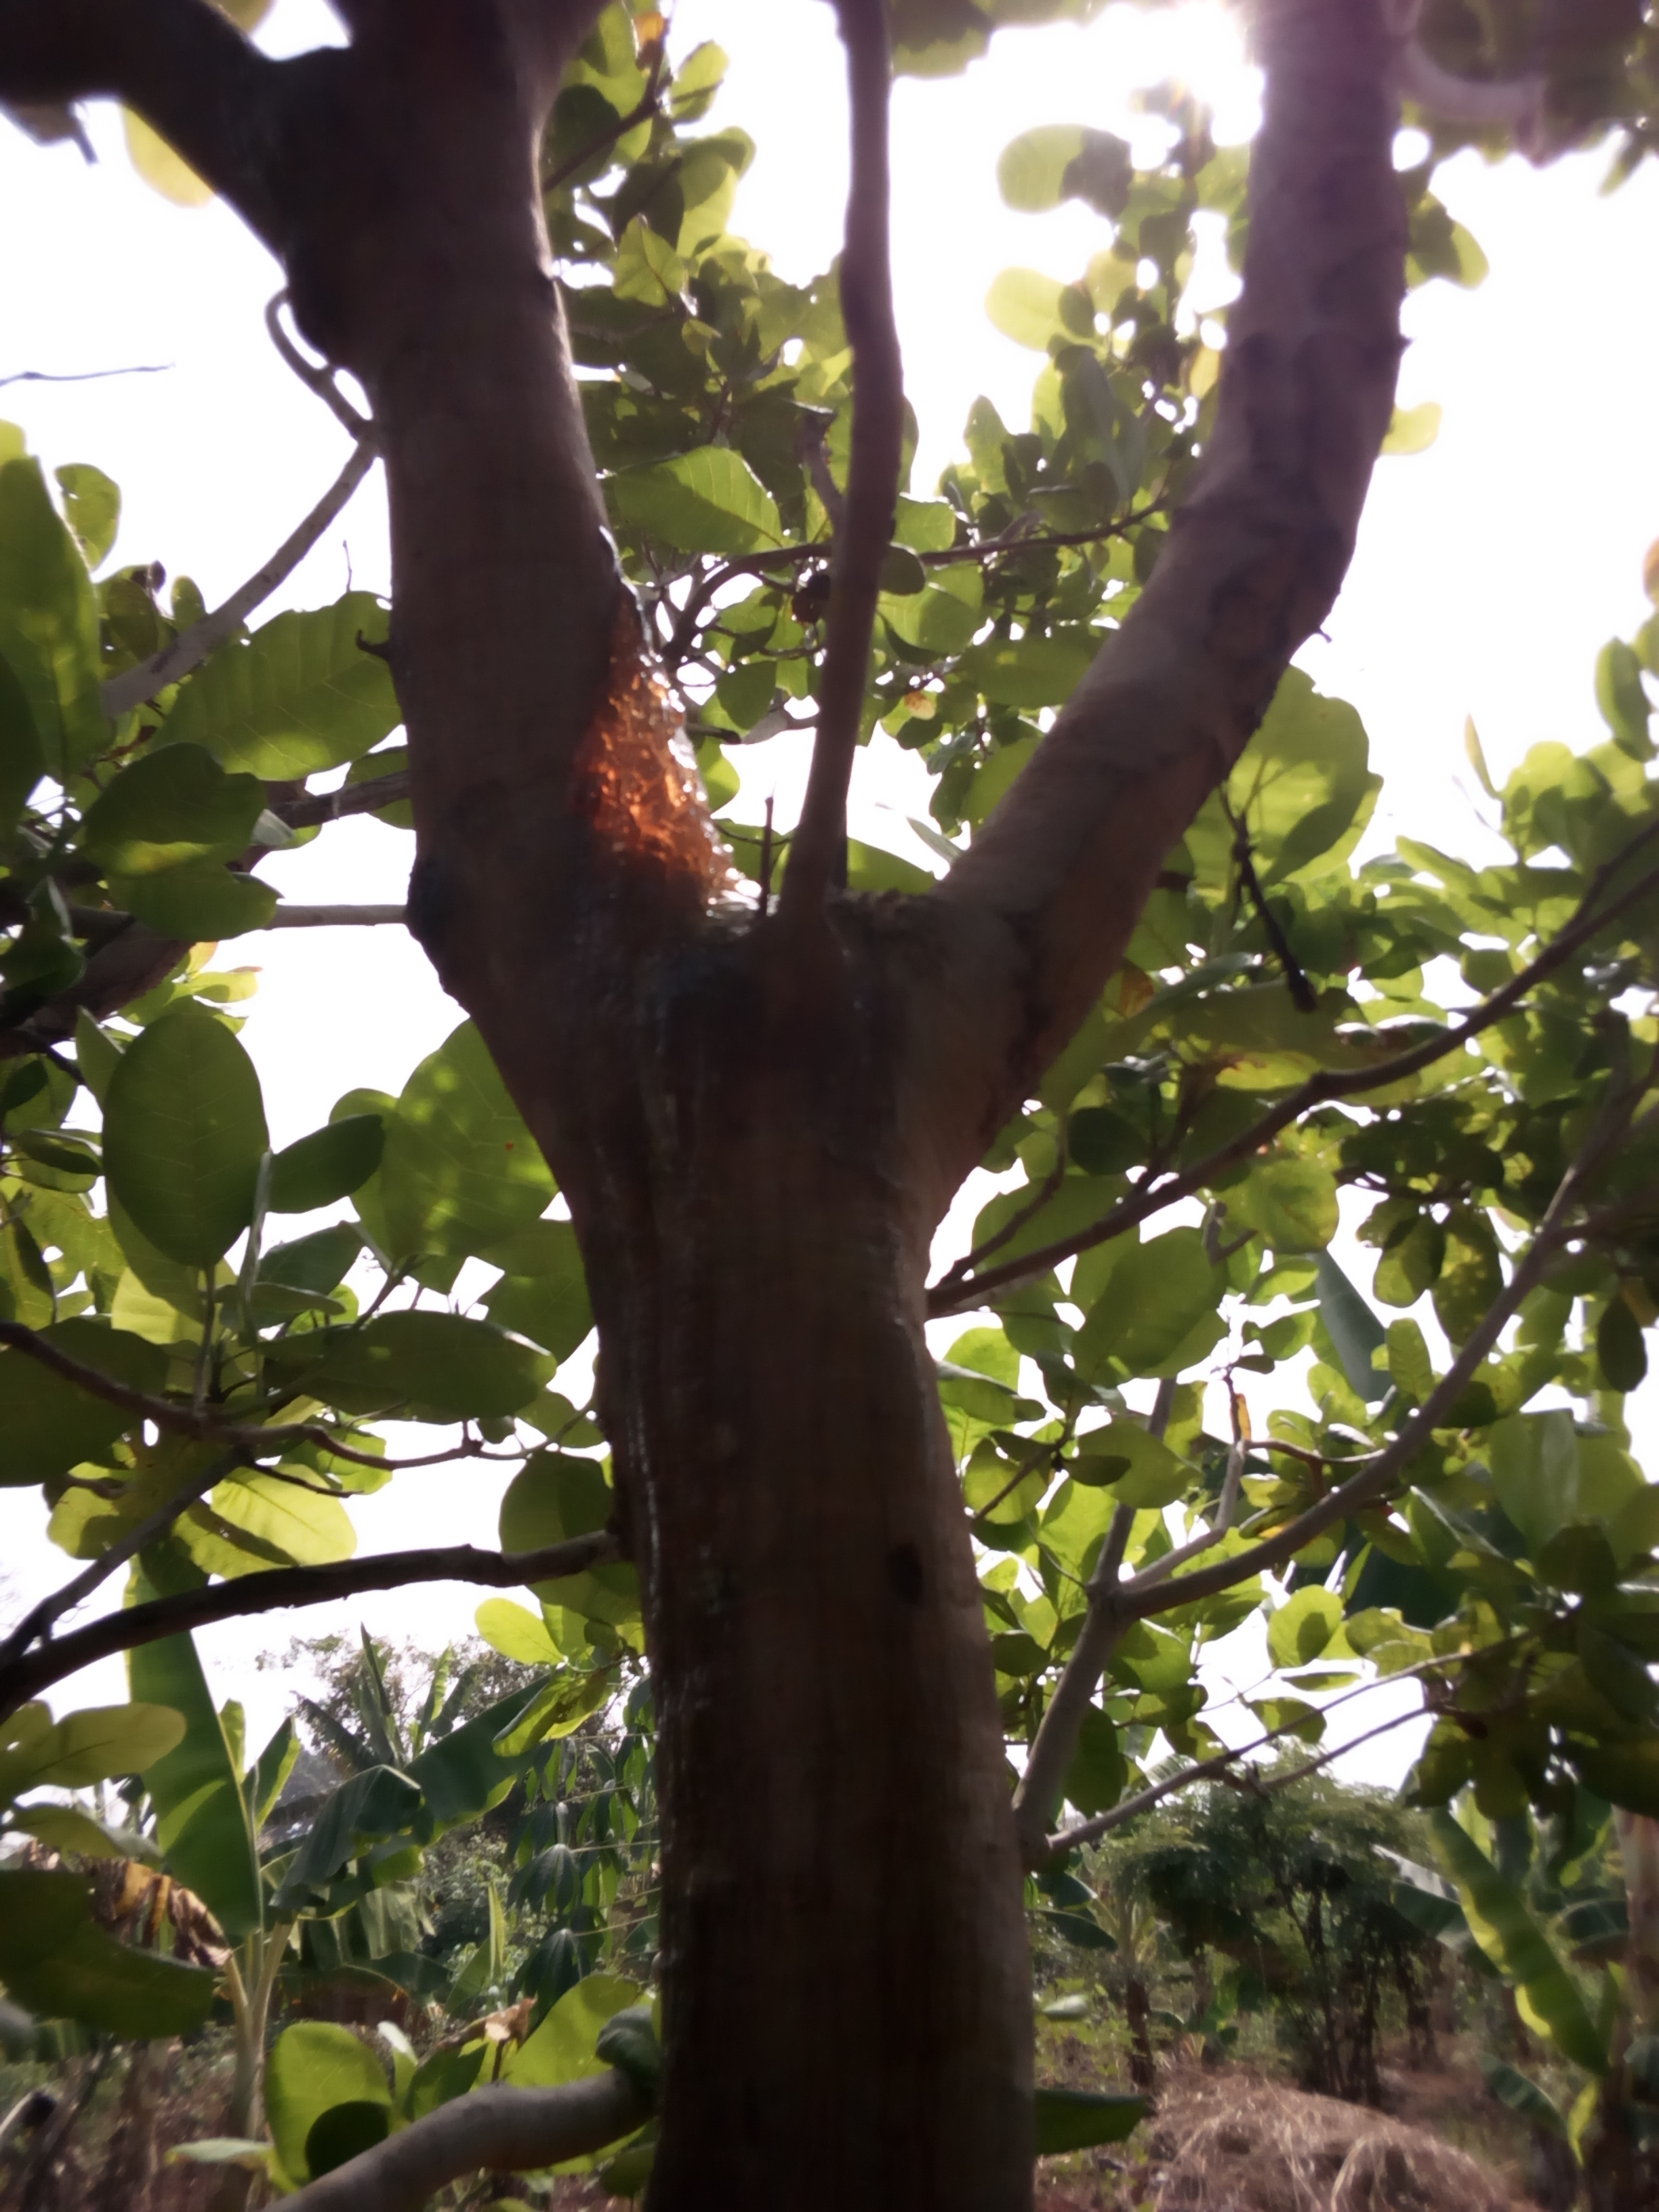Gommose: (568, 608, 796, 1876)
